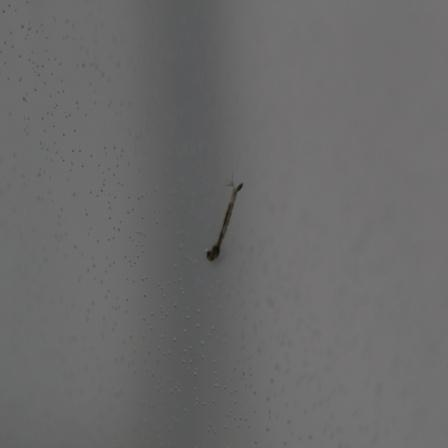Jentik-Nyamuk: (202, 178, 248, 266)
